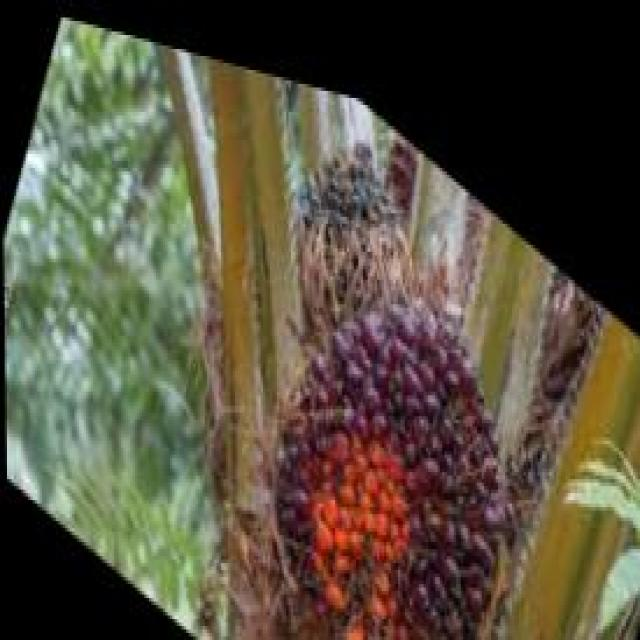Ripefruit: (224, 171, 550, 640)
